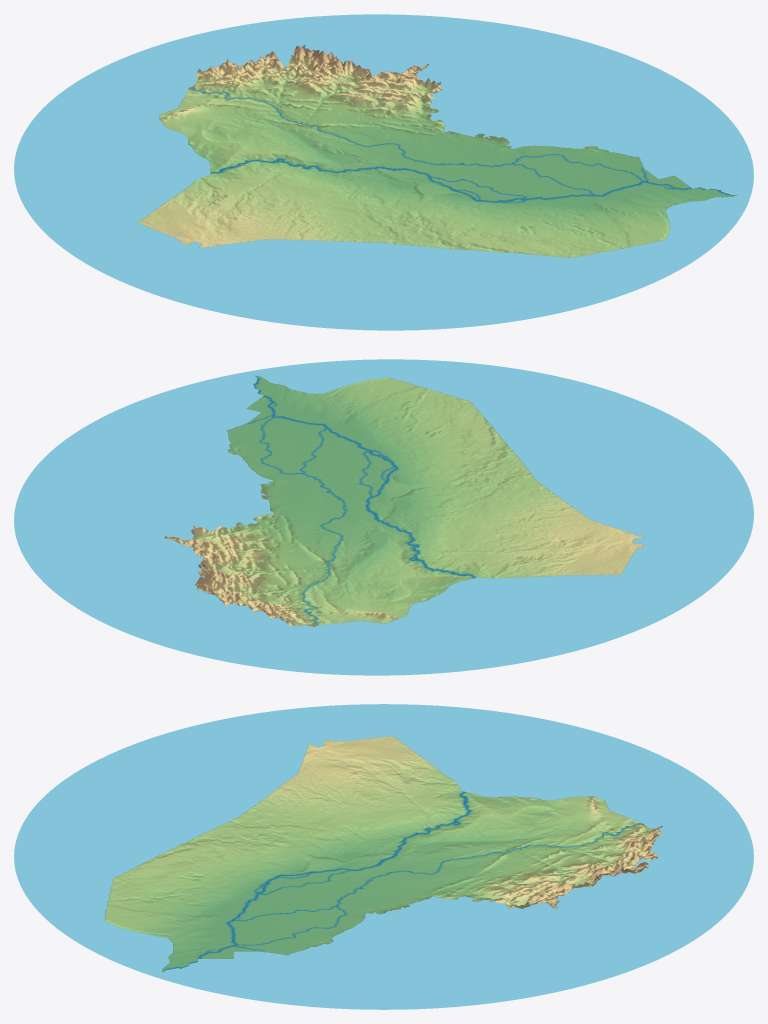
File: IRQ-terrain.glb
The picture shows the model from 3 angles, top to bottom: view 1: azimuth 30°, elevation 25°; view 2: azimuth 150°, elevation 25°; view 3: azimuth 270°, elevation 25°; orthographic projection.
Visible parts, largest first — view 1: Relevo com hidrografia; view 2: Relevo com hidrografia; view 3: Relevo com hidrografia.
Boxes of the visible parts, left/top/right/bottom form: Relevo com hidrografia: left=14, top=14, right=753, bottom=330; Relevo com hidrografia: left=14, top=359, right=753, bottom=675; Relevo com hidrografia: left=14, top=704, right=753, bottom=1009.
Size of the model in its own units: 2.09 by 0.0616 by 2.14.
2 materials, 1 textured.
